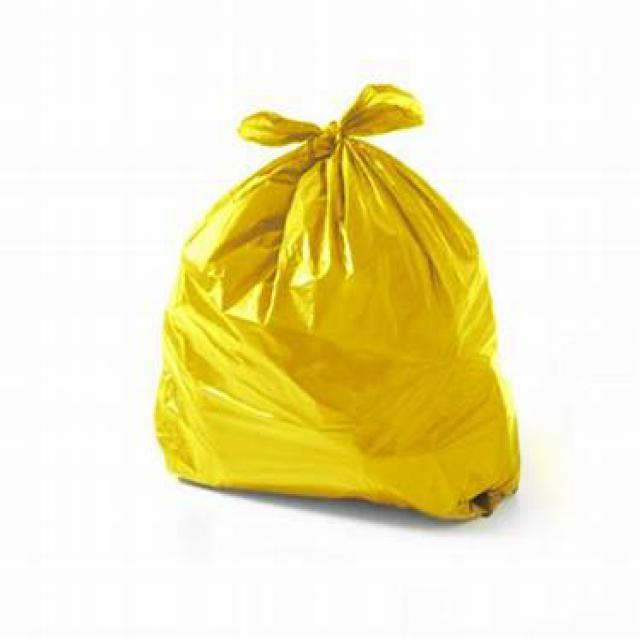waste: (165, 95, 521, 518)
